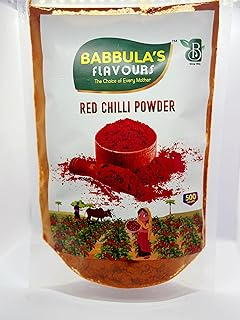Chilli Powder: (20, 2, 222, 307)
